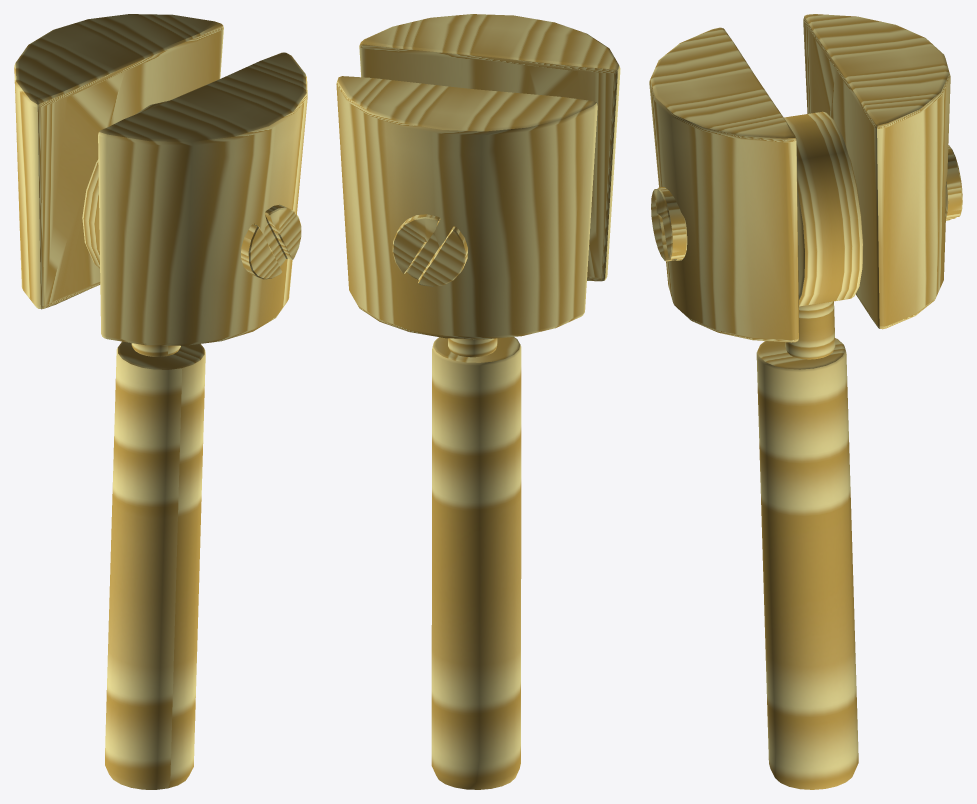
File: left shoulder.obj
The picture shows the model from 3 angles, left to right: view 1: azimuth 30°, elevation 25°; view 2: azimuth 150°, elevation 25°; view 3: azimuth 270°, elevation 25°; orthographic projection.
Visible parts, largest first — view 1: Blake_left_hand_left_shoulder_Left_shoulder_front, Blake_left_arm_left_hand, Blake_left_hand_left_shoulder_Left_shoulder_back, Blake_left_hand_left_shoulder_left_shoulder_screw, Blake_left_hand_left_shoulder_main_left_shoulder; view 2: Blake_left_hand_left_shoulder_Left_shoulder_back, Blake_left_arm_left_hand, Blake_left_hand_left_shoulder_Left_shoulder_front, Blake_left_hand_left_shoulder_left_shoulder_screw, Blake_left_hand_left_shoulder_left_shoulder_connector; view 3: Blake_left_arm_left_hand, Blake_left_hand_left_shoulder_Left_shoulder_front, Blake_left_hand_left_shoulder_Left_shoulder_back, Blake_left_hand_left_shoulder_main_left_shoulder, Blake_left_hand_left_shoulder_left_shoulder_screw, Blake_left_hand_left_shoulder_left_shoulder_connector.
Boxes of the visible parts, x1=… form: Blake_left_hand_left_shoulder_Left_shoulder_front: x1=98, y1=52, x2=307, y2=345; Blake_left_arm_left_hand: x1=105, y1=341, x2=205, y2=789; Blake_left_hand_left_shoulder_Left_shoulder_back: x1=14, y1=14, x2=223, y2=309; Blake_left_hand_left_shoulder_left_shoulder_screw: x1=241, y1=204, x2=301, y2=279; Blake_left_hand_left_shoulder_main_left_shoulder: x1=82, y1=100, x2=168, y2=268; Blake_left_hand_left_shoulder_Left_shoulder_back: x1=336, y1=76, x2=597, y2=339; Blake_left_arm_left_hand: x1=431, y1=337, x2=521, y2=789; Blake_left_hand_left_shoulder_Left_shoulder_front: x1=359, y1=14, x2=620, y2=281; Blake_left_hand_left_shoulder_left_shoulder_screw: x1=392, y1=214, x2=467, y2=286; Blake_left_hand_left_shoulder_left_shoulder_connector: x1=448, y1=338, x2=497, y2=357; Blake_left_arm_left_hand: x1=756, y1=338, x2=858, y2=789; Blake_left_hand_left_shoulder_Left_shoulder_front: x1=649, y1=27, x2=799, y2=342; Blake_left_hand_left_shoulder_Left_shoulder_back: x1=803, y1=14, x2=950, y2=329; Blake_left_hand_left_shoulder_main_left_shoulder: x1=784, y1=111, x2=863, y2=306; Blake_left_hand_left_shoulder_left_shoulder_screw: x1=651, y1=145, x2=962, y2=261; Blake_left_hand_left_shoulder_left_shoulder_connector: x1=785, y1=301, x2=835, y2=359.
Size of the model in its own units: 0.9541 by 2.6 by 1.04.
